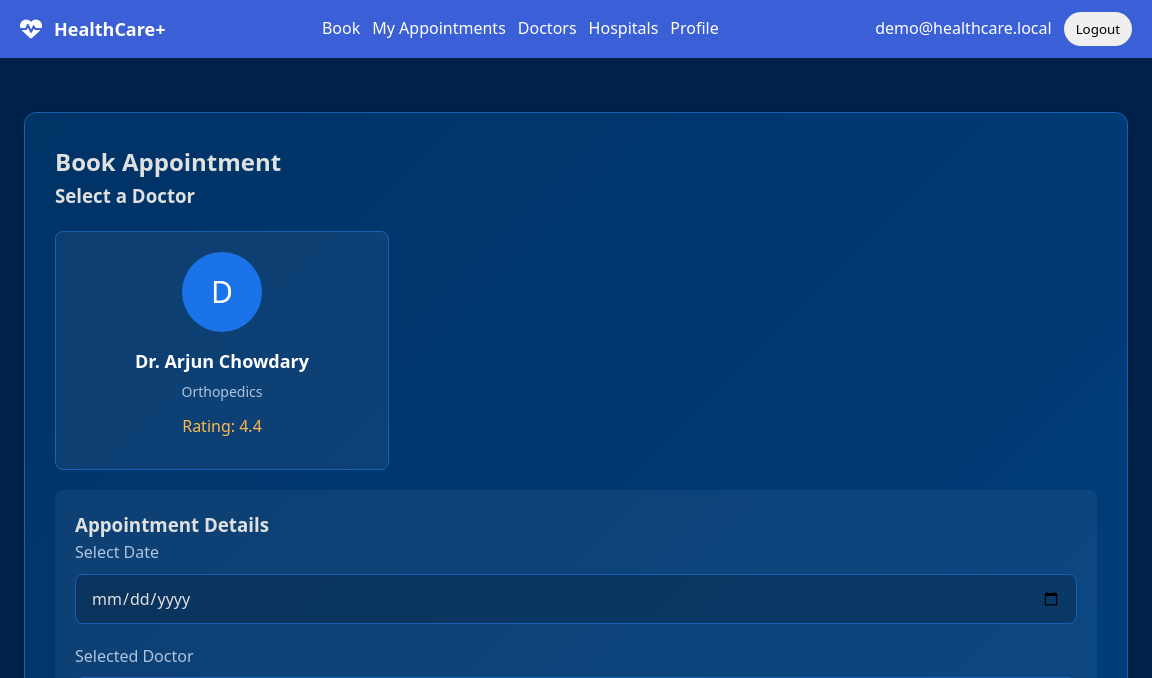
Scenario: Appointments page › books an appointment for the selected doctor
Click the heading "Dr. Arjun Chowdary" at (222, 361), box [135,349,309,373]
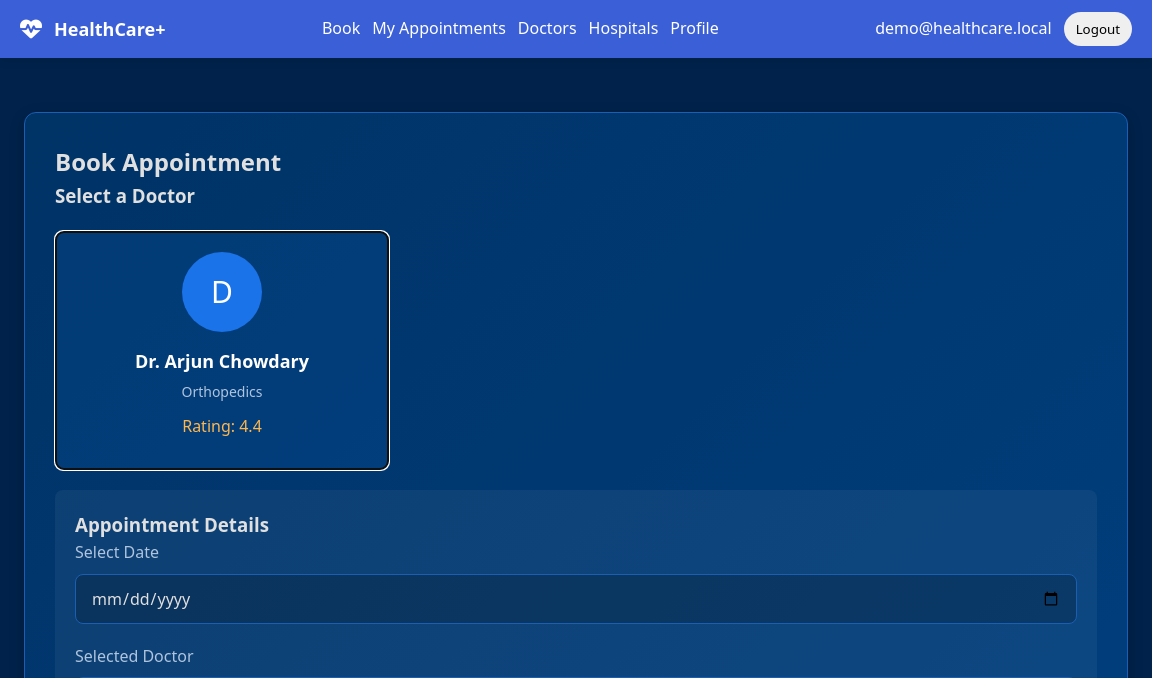
Type "2026-12-01" into the date field labelled "Select Date" at (576, 599), box [75,574,1077,624]
(page scrolled)
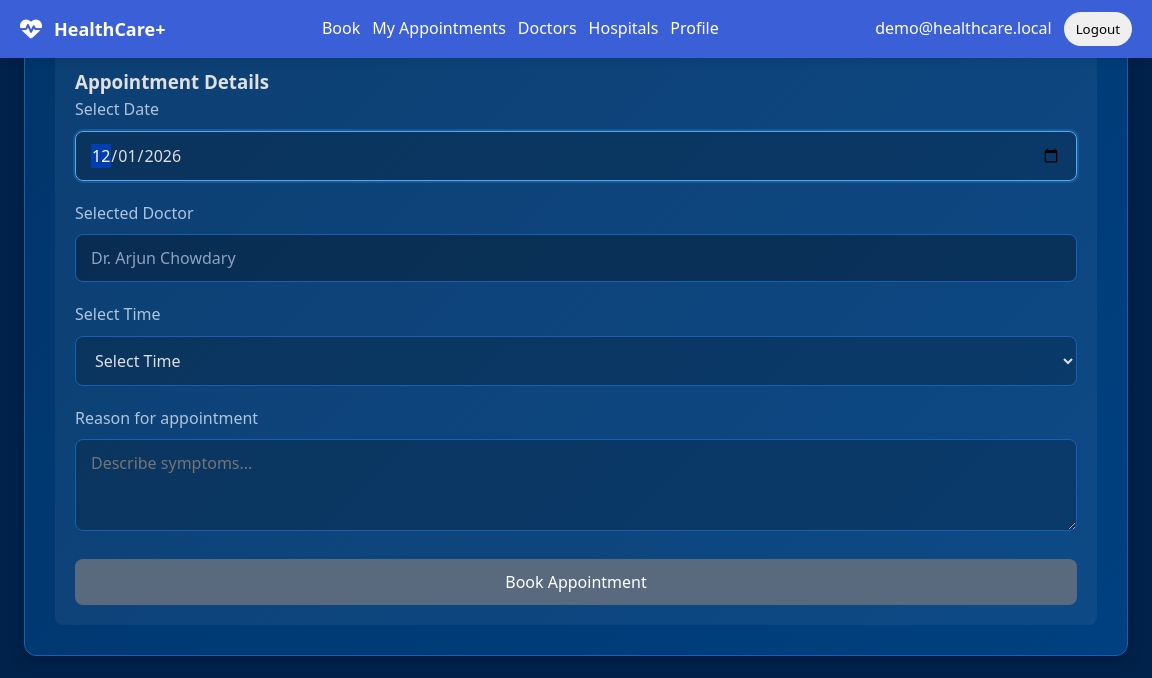
Select "09:00 AM" in the dropdown labelled "Select Time" at (576, 361), box [75,336,1077,386]
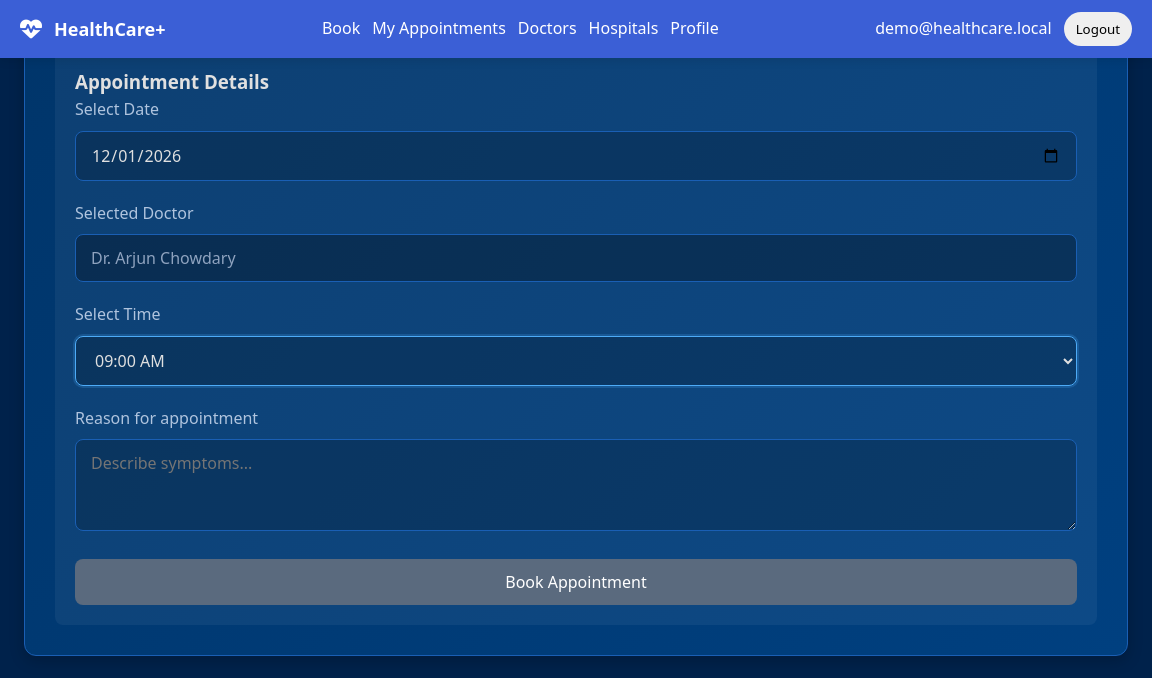
Type "Routine checkup" into the text box labelled "Reason for appointment" at (576, 485), box [75,439,1077,531]
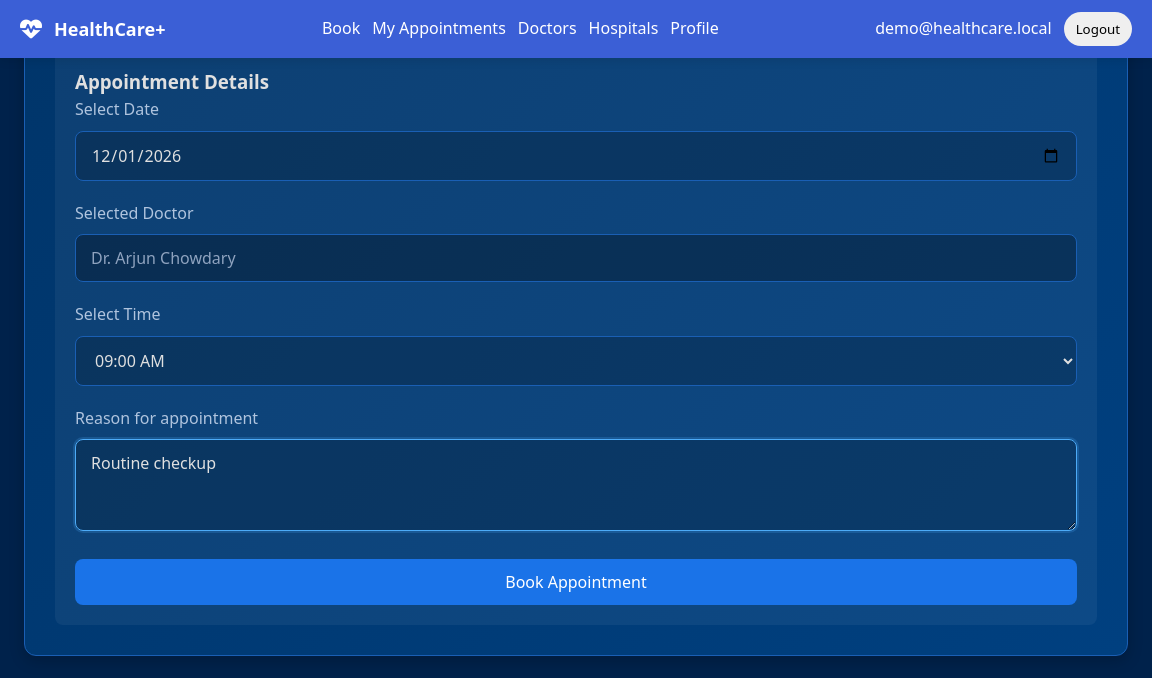
Click the button "Book Appointment" at (576, 582), box [75,559,1077,605]
(page scrolled)
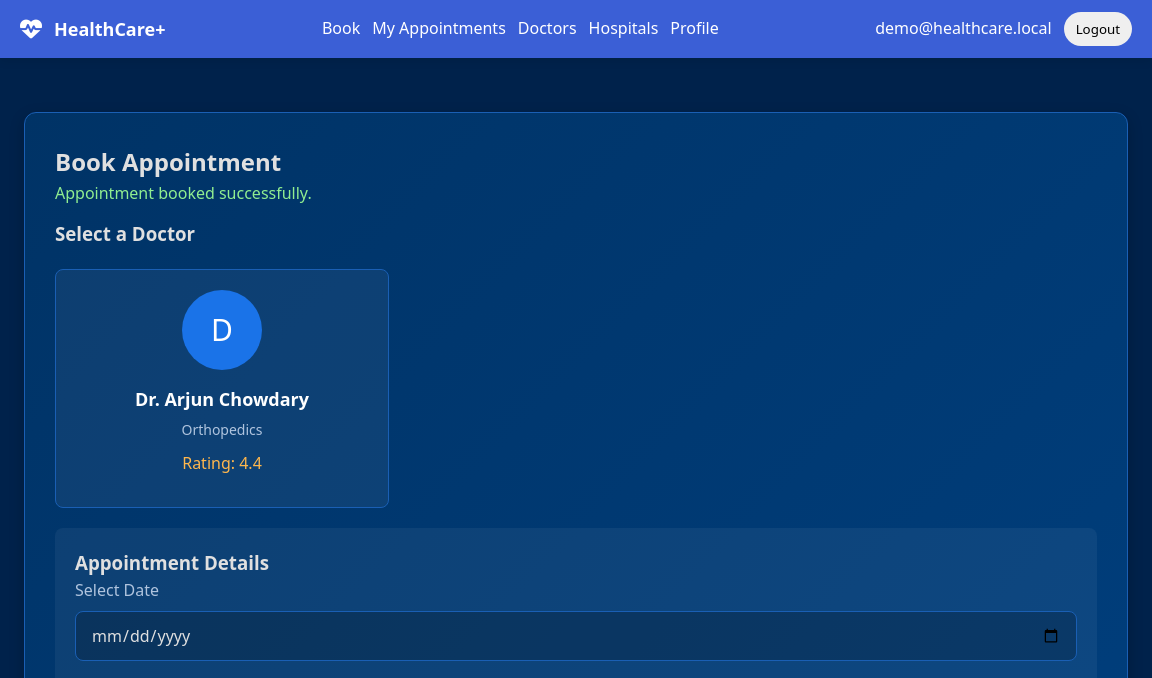
Check: the text "Appointment booked successfully." is shown, box [55,182,312,204]
